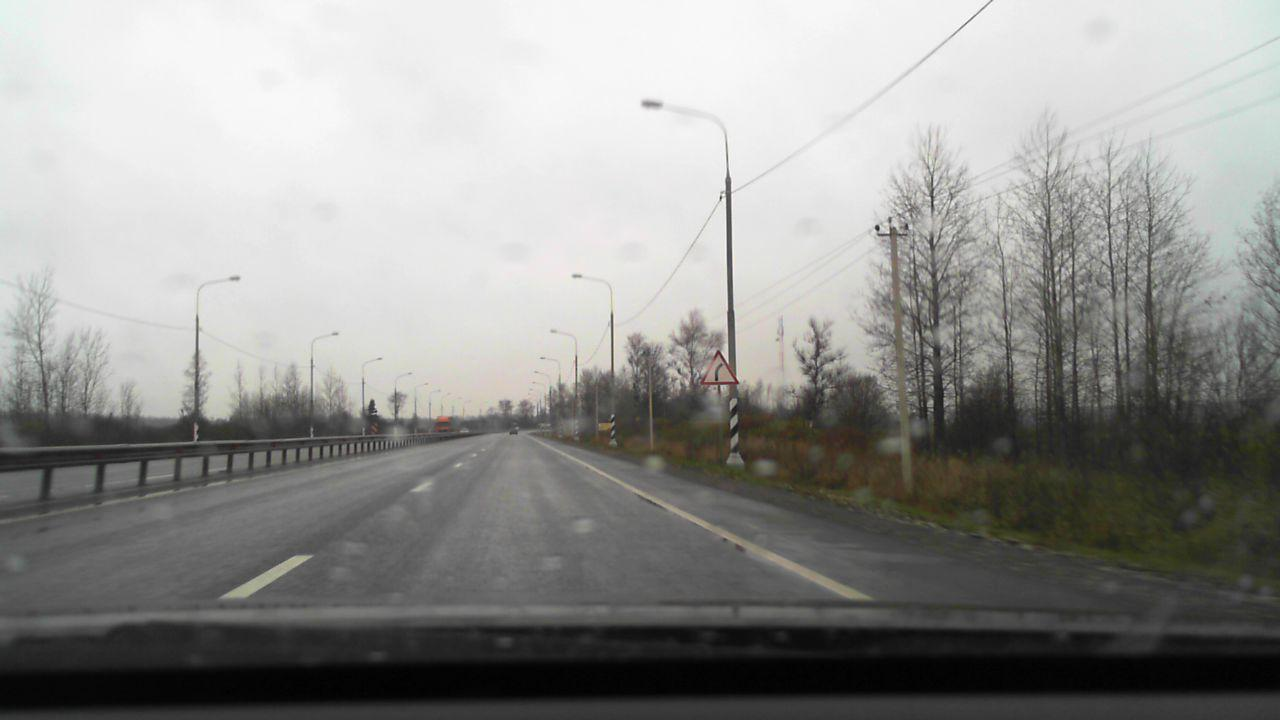1_11_1: (700, 349, 739, 384)
